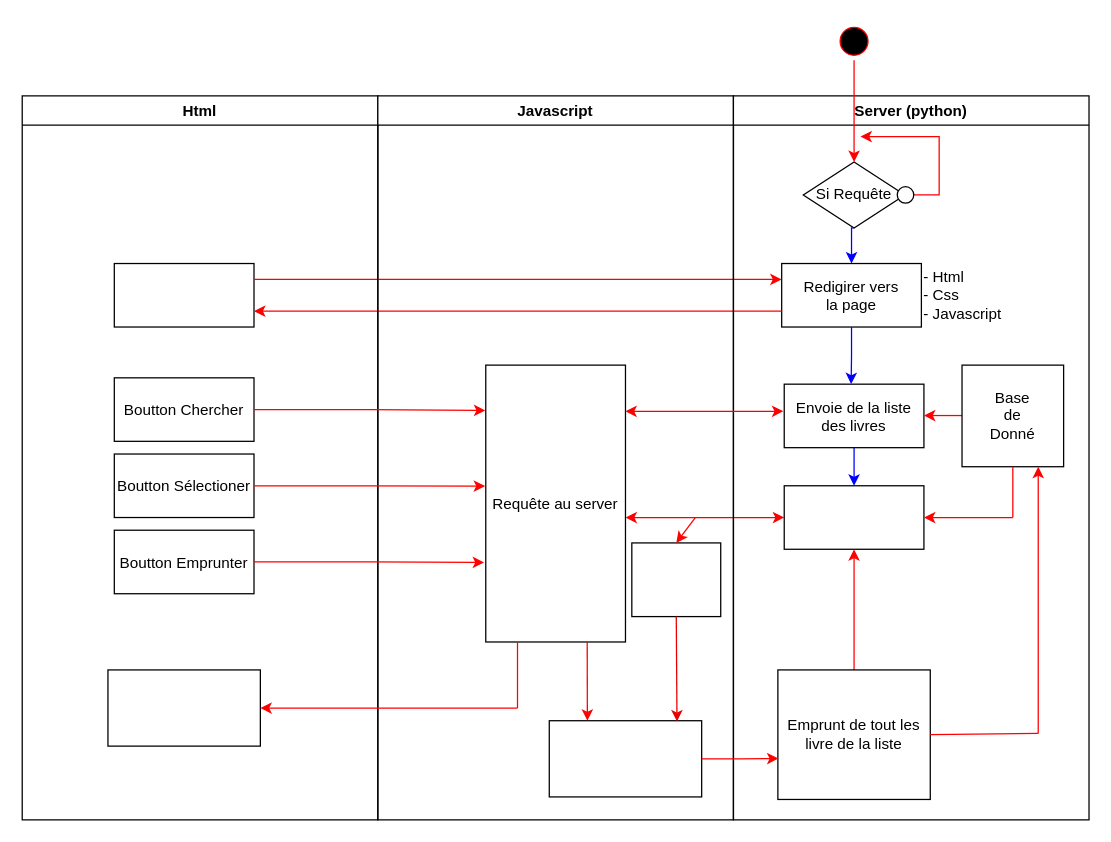
Some shapes in this 1111 by 842 pixel diagram are drawn without their labels. Here are the shapes that lost their labels. From the top down, the centre of each, then its label:
the point at 853,40: Url
the point at 183,294: Chargement de la page
the point at 853,517: Vérification du statue du livre
the point at 676,579: ajout du livre
the point at 183,707: Modification de la page internet
the point at 625,758: Liste des livre a Emprunter
